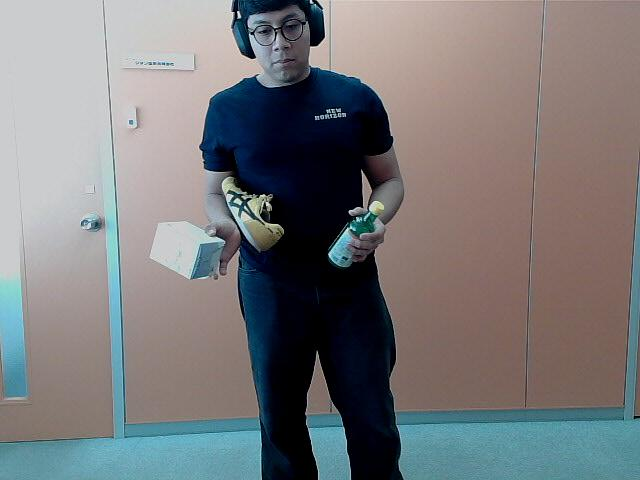Blind_box: (150, 221, 222, 282)
Lemon_sapporo: (325, 202, 383, 270)
Shoes: (221, 169, 283, 251)
